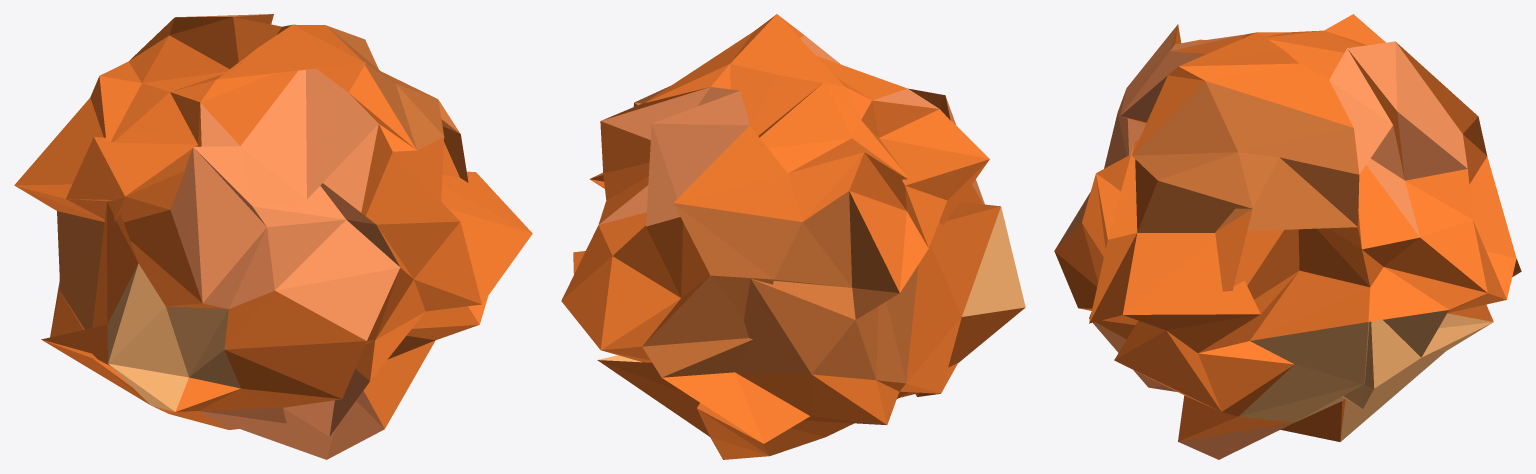
Rendered from Meteor_1 (2).fbx.
3 renders of one model, left to right at view 1: azimuth 30°, elevation 25°; view 2: azimuth 150°, elevation 25°; view 3: azimuth 270°, elevation 25°, orthographic. The views are drawn at different scales.
Visible parts, largest first — view 1: Icosphere.001; view 2: Icosphere.001; view 3: Icosphere.001.
Part boxes in pixels (bbox=[...]): Icosphere.001: bbox=[14, 14, 532, 459]; Icosphere.001: bbox=[561, 14, 1025, 459]; Icosphere.001: bbox=[1054, 14, 1521, 459].
Size of the model in its own units: 56.03 by 53.35 by 56.12.
